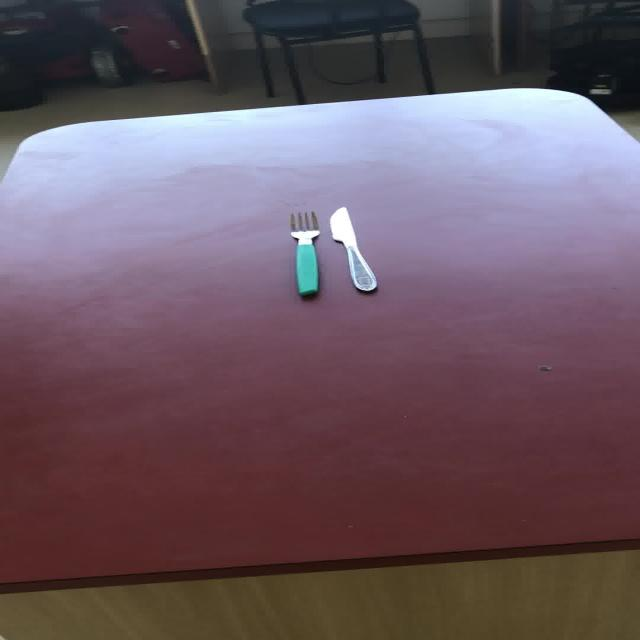fork: (288, 211, 320, 296)
knife fork: (328, 206, 377, 291)
